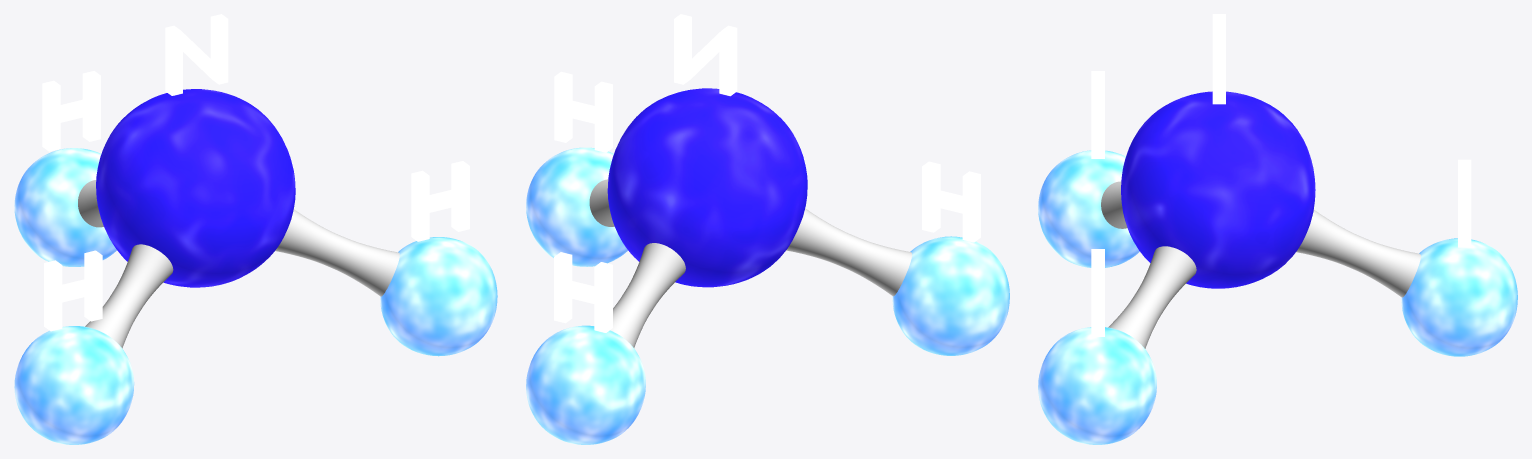
3 views of the same model, side by side, from view 1: azimuth 30°, elevation 25°; view 2: azimuth 150°, elevation 25°; view 3: azimuth 270°, elevation 25° (orthographic).
Parts seen in each view (by area): view 1: Text.004; view 2: Text.004; view 3: Text.004.
Part boxes in pixels (box(x1,y1,x2,y2)): Text.004: box(14, 14, 497, 444); Text.004: box(526, 14, 1009, 444); Text.004: box(1038, 14, 1517, 444).
Bounding box in the file's own units: 5.58 × 3.71 × 4.98.
4 materials, 2 textured.
